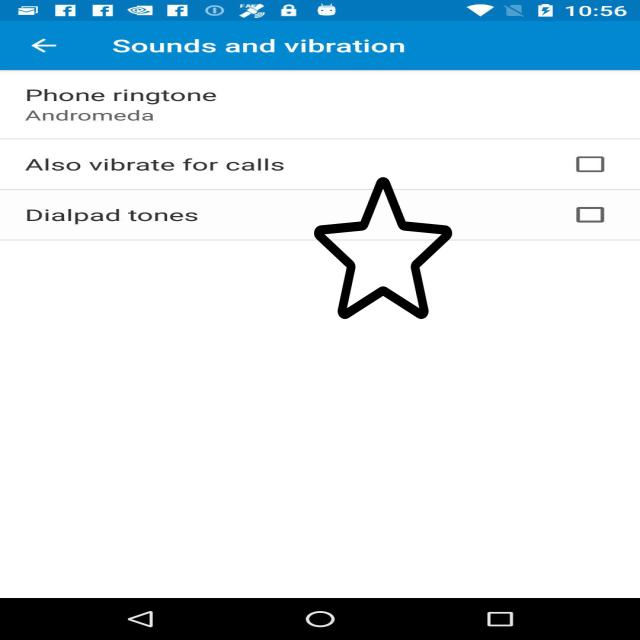forced continuity: (314, 174, 452, 322)
